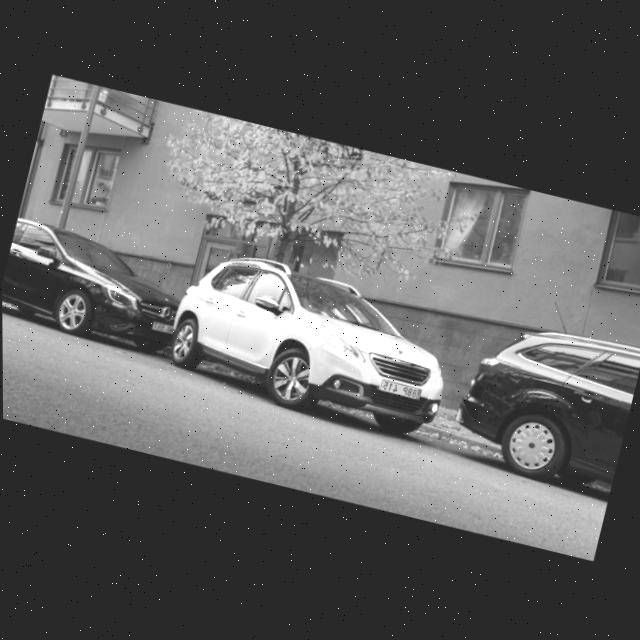license-plates: (378, 380, 421, 400)
